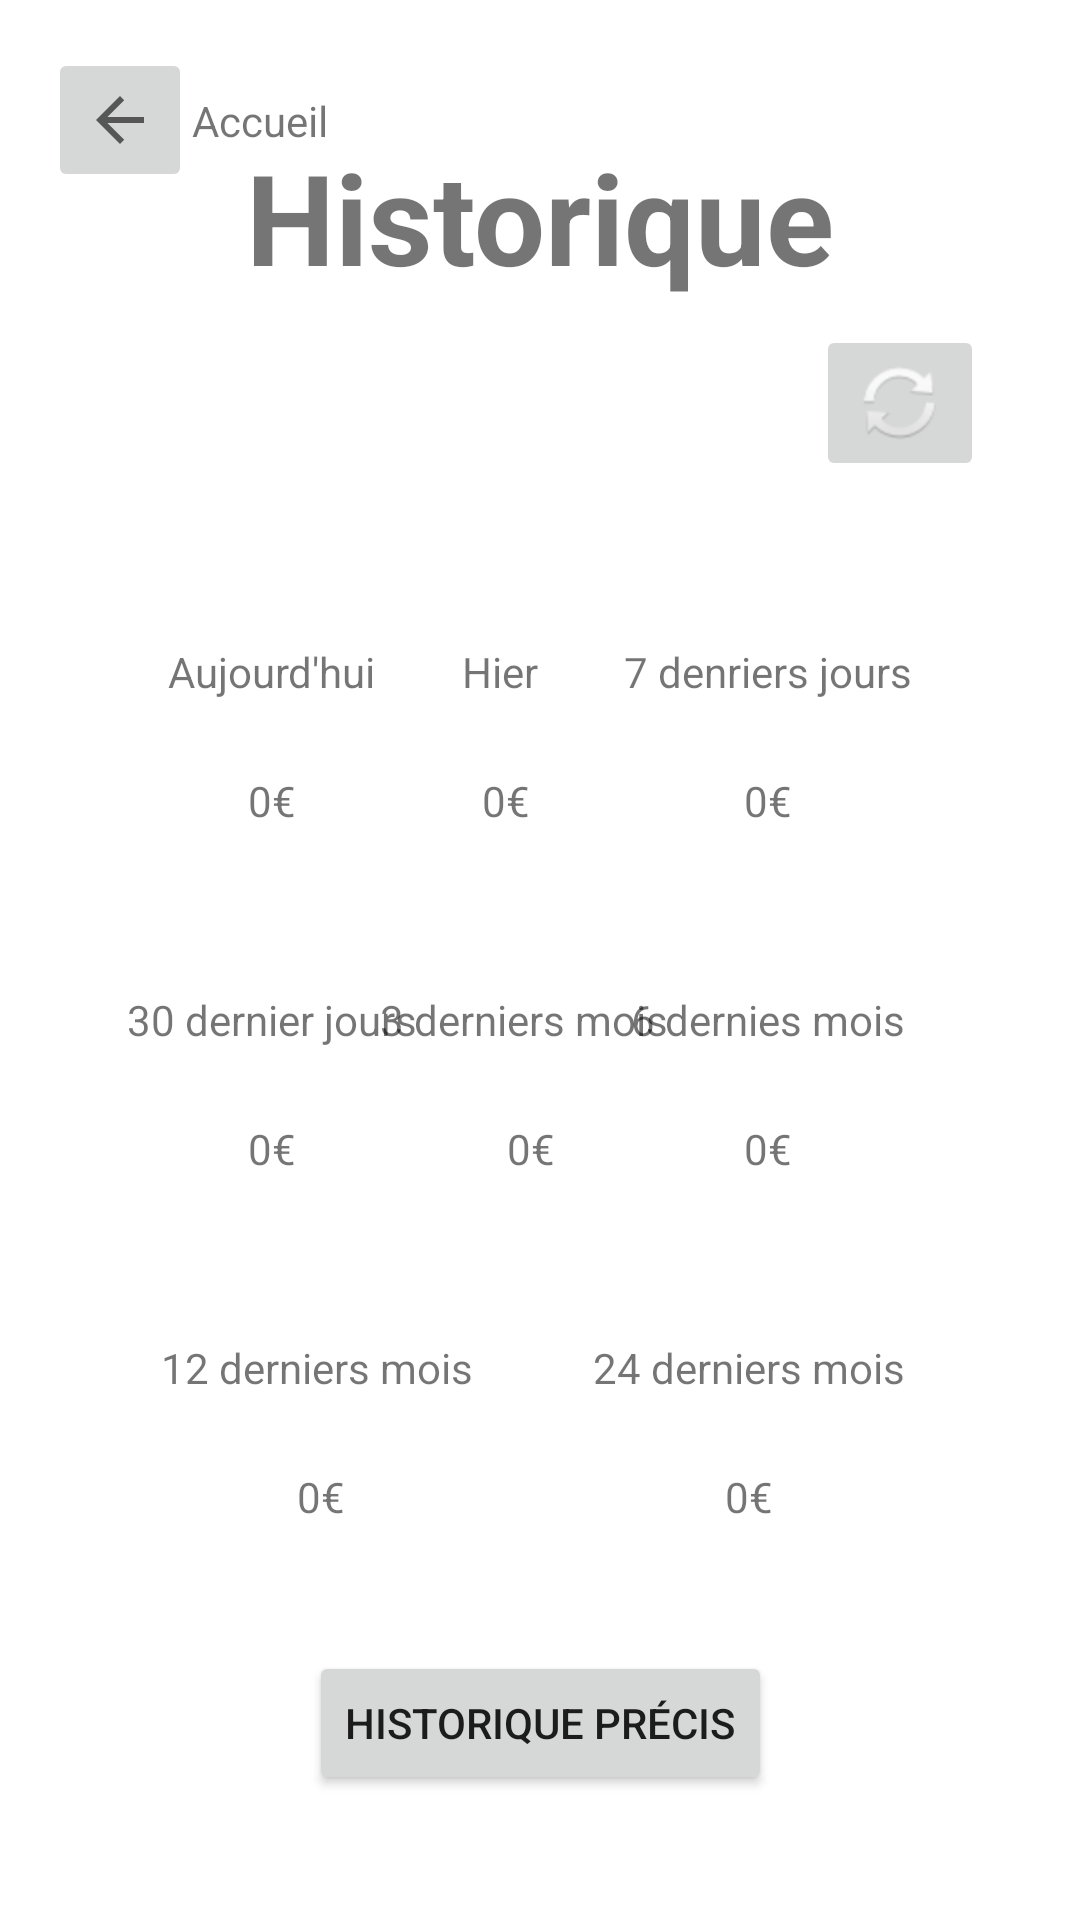

Screen size 1080*1920. Icon name, then its center in pixels as (x=x, y=y):
Rafraichissement des données: (x=900, y=403)
